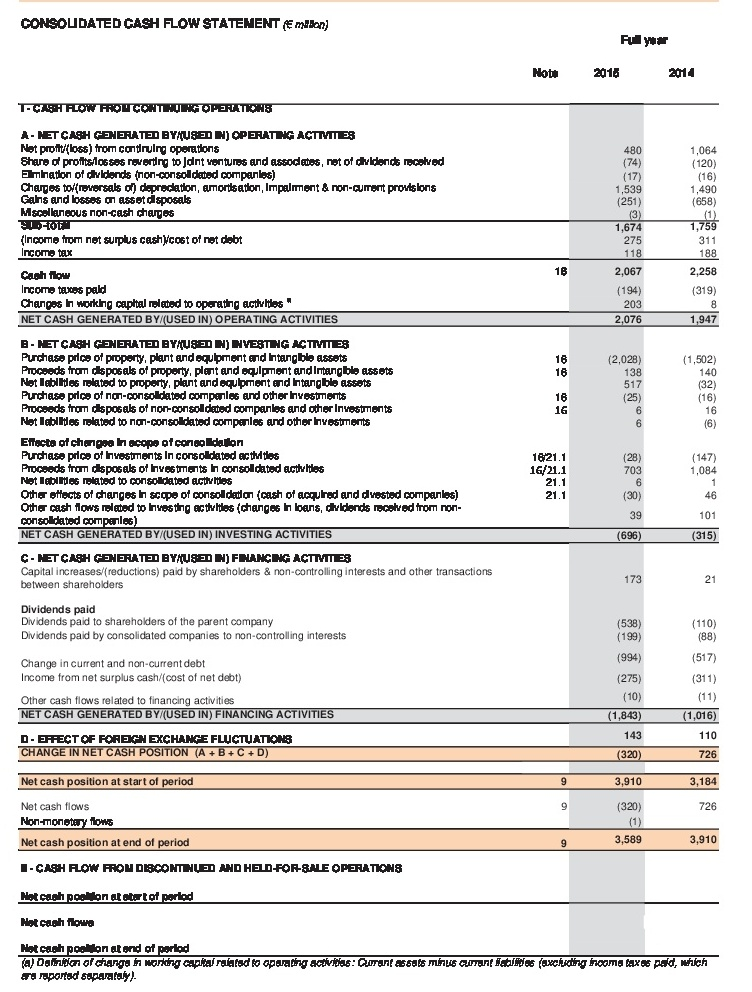table: (0, 0, 752, 992)
